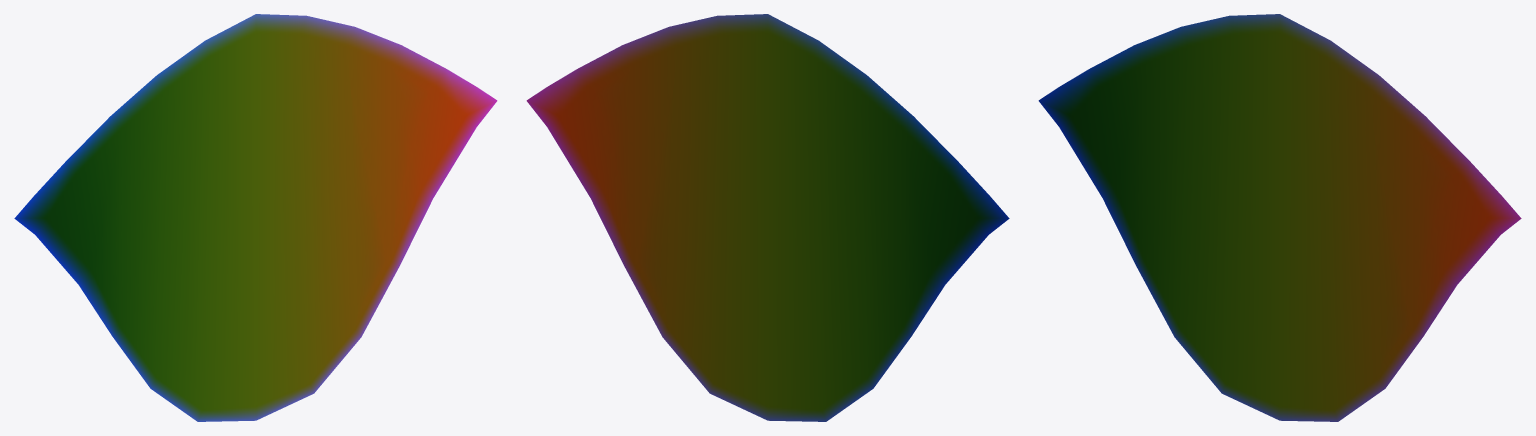
The model's file is MouthStickerDog1.gltf.
The picture shows the model from 3 angles, left to right: view 1: azimuth 30°, elevation 25°; view 2: azimuth 150°, elevation 25°; view 3: azimuth 330°, elevation 25°; orthographic projection.
Visible parts, largest first — view 1: Line006; view 2: Line006; view 3: Line006.
Boxes of the visible parts, bbox=[...] form: Line006: bbox=[14, 14, 497, 421]; Line006: bbox=[526, 14, 1009, 421]; Line006: bbox=[1038, 14, 1521, 421].
Bounding box in the file's own units: 0.8686 × 0.6987 × 1.31e-07.
Materials: 1 (1 with a texture image).
